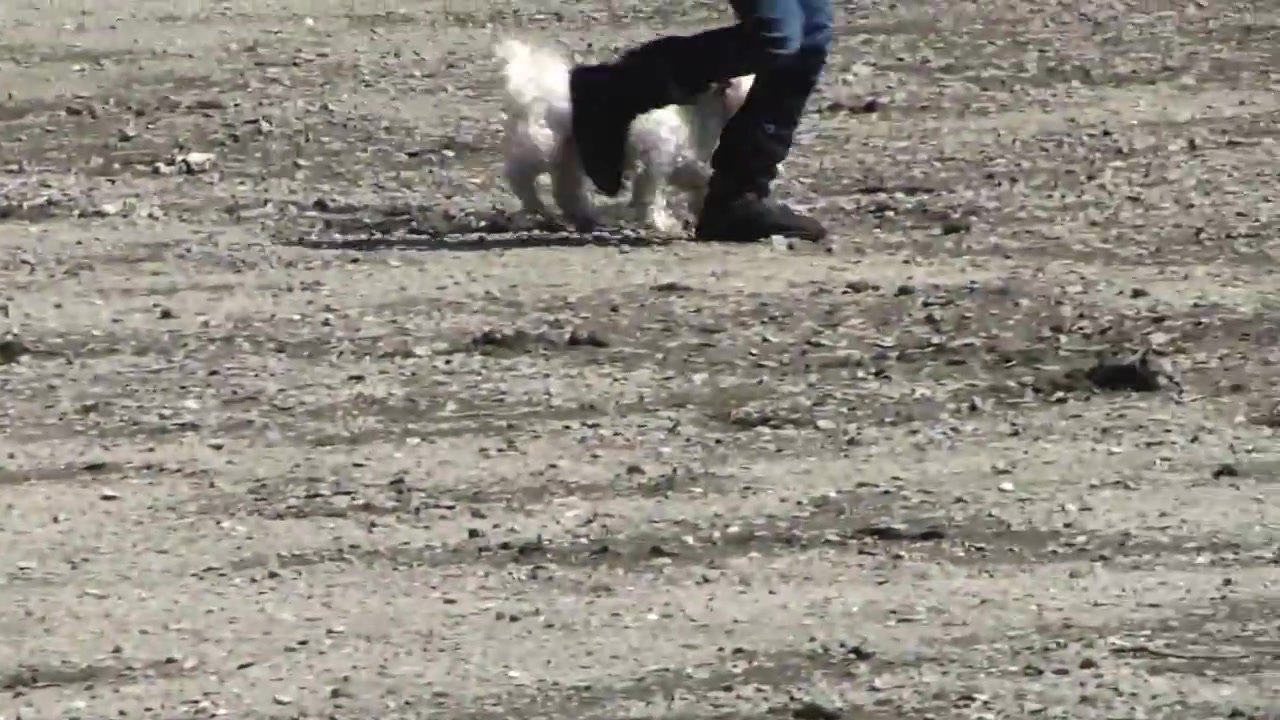dog: (490, 37, 756, 237)
